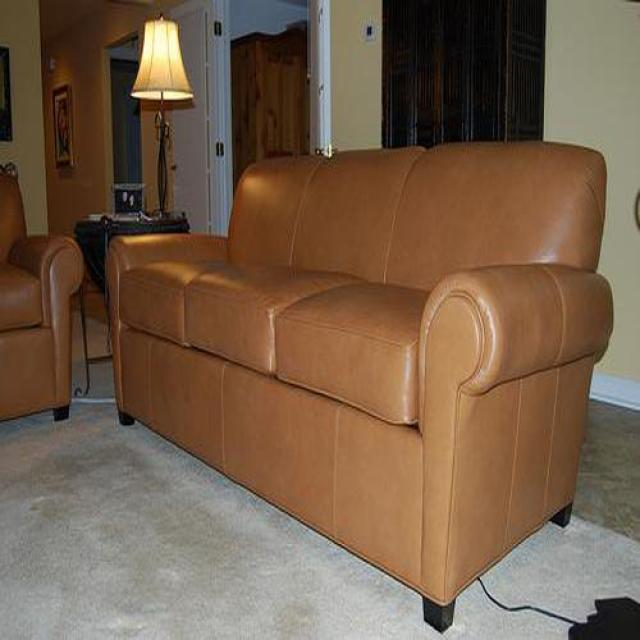sofa: (104, 141, 614, 632)
